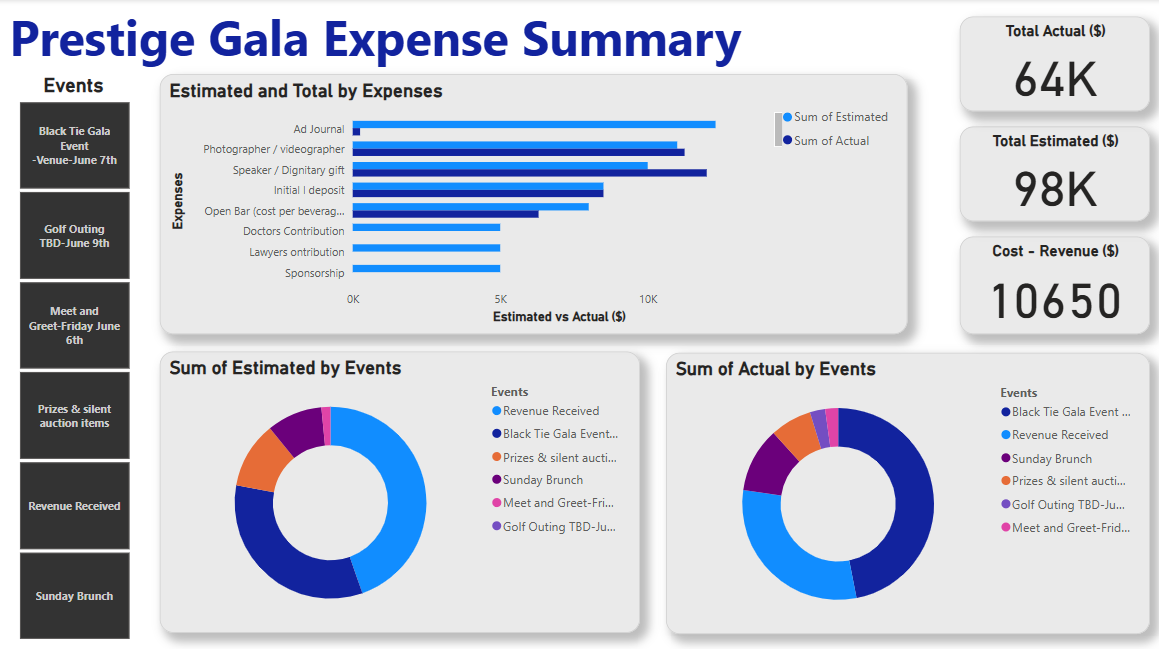

The dashboard page shown, as its layout file describes it:
{"tool":"powerbi","page":{"name":"Page 2","canvas":[1280,720],"ordinal":0},"visuals":[{"type":"textbox","box":[9.6,0,974.3,93.3],"z":0},{"type":"slicer","title":"Events","fields":{"Values":["Sheet1.Events"]},"box":[0,82.3,170.2,627.1],"z":1000},{"type":"clusteredBarChart","title":"Estimated and Total by Expenses","fields":{"Category":["Sheet1.Expenses"],"Y":["Sum(Sheet1.Estimated)","Sum(Sheet1.Actual)"]},"box":[179.8,82.3,820.6,285.4],"z":2000},{"type":"donutChart","fields":{"Y":["Sum(Sheet1.Estimated)"],"Category":["Sheet1.Events"]},"box":[179.8,387,526.9,308.7],"z":3000},{"type":"donutChart","fields":{"Y":["Sum(Sheet1.Actual)"],"Category":["Sheet1.Events"]},"box":[735.5,388.3,531,308.7],"z":4000},{"type":"card","title":"Total Estimated ($)","fields":{"Values":["Sum(Sheet1.Estimated)"]},"box":[1058,140,208.6,104.3],"z":5000},{"type":"card","title":"Cost - Revenue ($)","fields":{"Values":["Min(Sheet1.Revenue vs Cost Difference )"]},"box":[1058,260.7,208.6,107],"z":6000},{"type":"card","title":"Total Actual ($)","fields":{"Values":["Sum(Sheet1.Actual)"]},"box":[1058,19.2,208.6,104.3],"z":7000}]}

Visuals, with their boxes in screenshot pixels (x1, y1, x2, y2), scaled from the page's 1280x720 canvas onto the 1159x649 screenshot:
textbox: <region>9, 0, 891, 84</region>
"Events" slicer: <region>0, 74, 154, 639</region>
"Estimated and Total by Expenses" clusteredBarChart: <region>163, 74, 906, 331</region>
donutChart - Sum(Sheet1.Estimated) x Sheet1.Events: <region>163, 349, 640, 627</region>
donutChart - Sum(Sheet1.Actual) x Sheet1.Events: <region>666, 350, 1147, 628</region>
"Total Estimated ($)" card: <region>958, 126, 1147, 220</region>
"Cost - Revenue ($)" card: <region>958, 235, 1147, 331</region>
"Total Actual ($)" card: <region>958, 17, 1147, 111</region>
